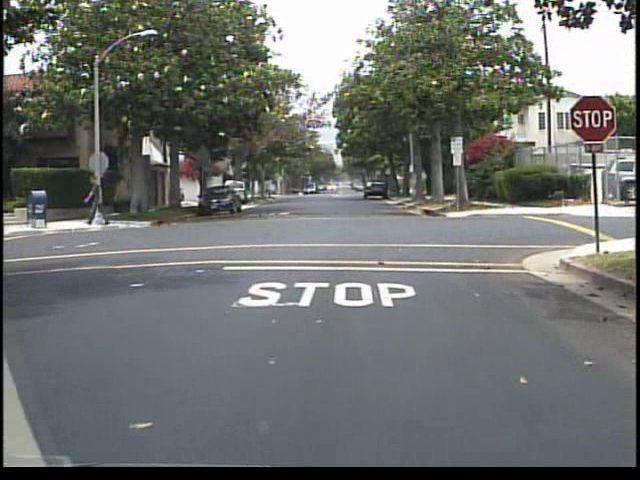person: (83, 169, 112, 232)
